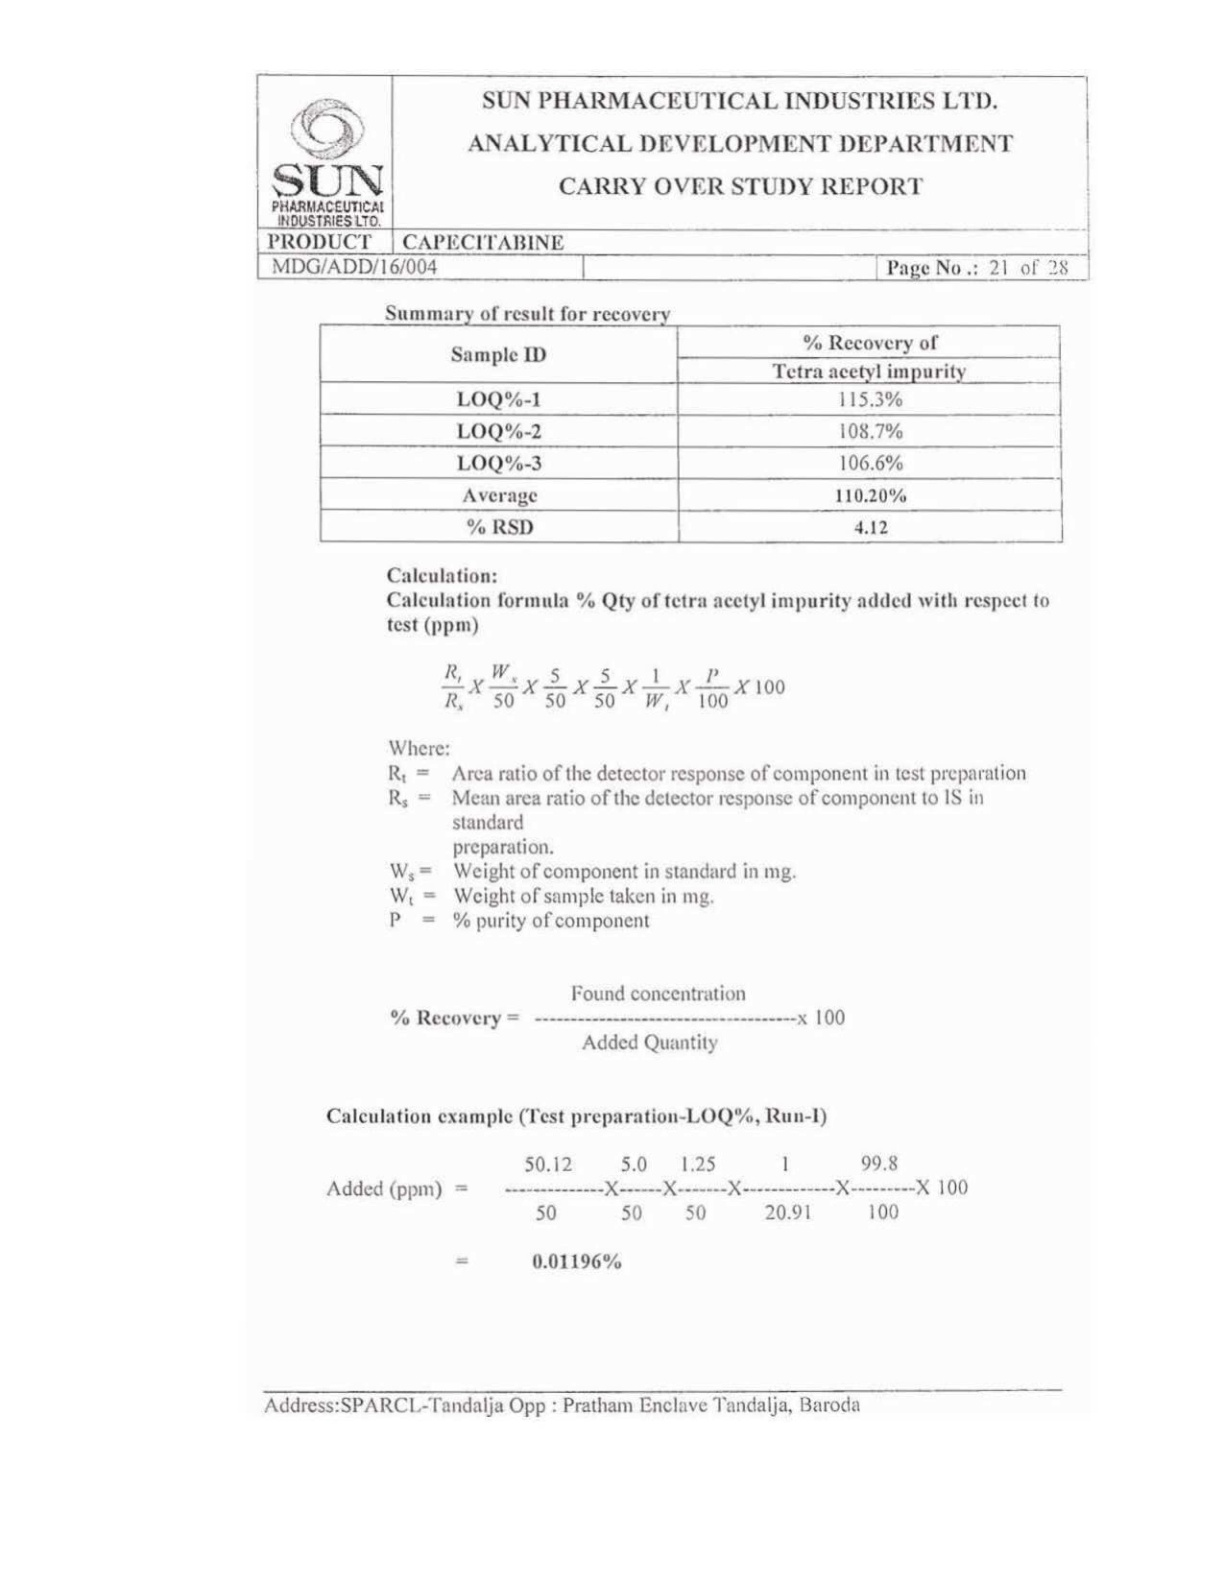merged_cells: (255, 73, 1092, 282), (318, 321, 1065, 544)
